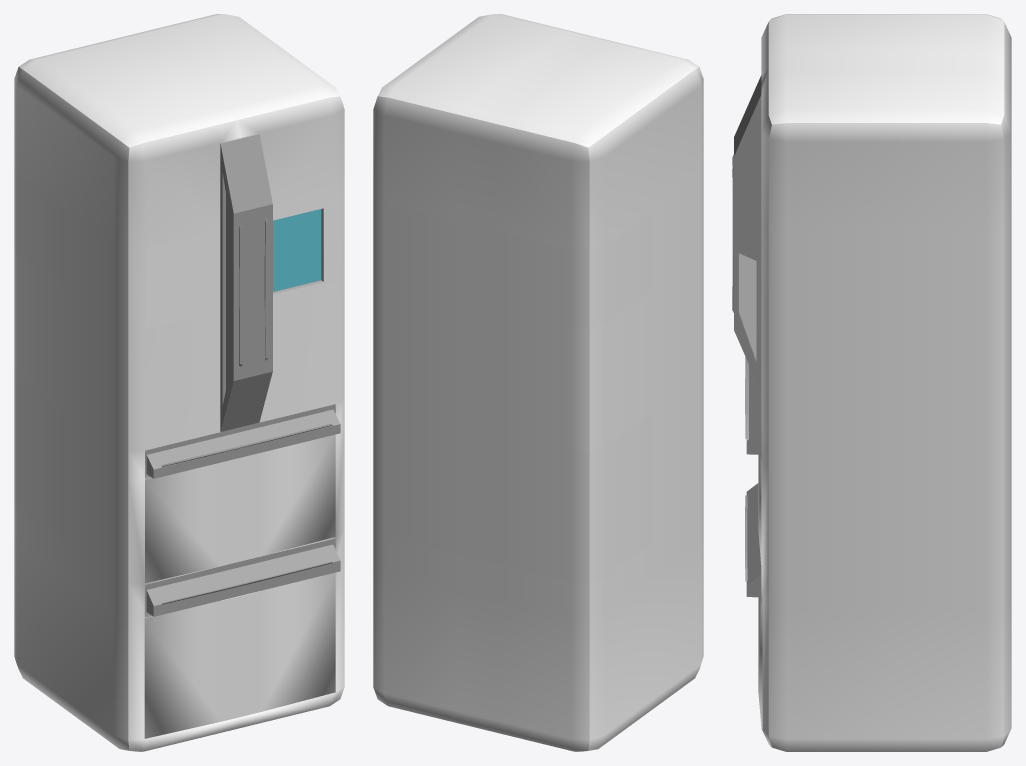
Rendered from Reizouko.fbx.
3 renders of one model, left to right at view 1: azimuth 30°, elevation 25°; view 2: azimuth 150°, elevation 25°; view 3: azimuth 270°, elevation 25°, orthographic. The views are drawn at different scales.
Parts seen in each view (by area): view 1: pCube8, pCube8.002, pCube8.001; view 2: pCube8; view 3: pCube8, pCube8.002, pCube8.001.
Boxes of the visible parts, left/top/right/bottom form: pCube8: left=14, top=14, right=344, bottom=751; pCube8.002: left=144, top=537, right=340, bottom=738; pCube8.001: left=145, top=404, right=340, bottom=583; pCube8: left=373, top=14, right=703, bottom=751; pCube8: left=732, top=14, right=1011, bottom=751; pCube8.002: left=745, top=483, right=762, bottom=729; pCube8.001: left=745, top=357, right=761, bottom=564.
Size of the model in its own units: 317 by 825 by 325.
